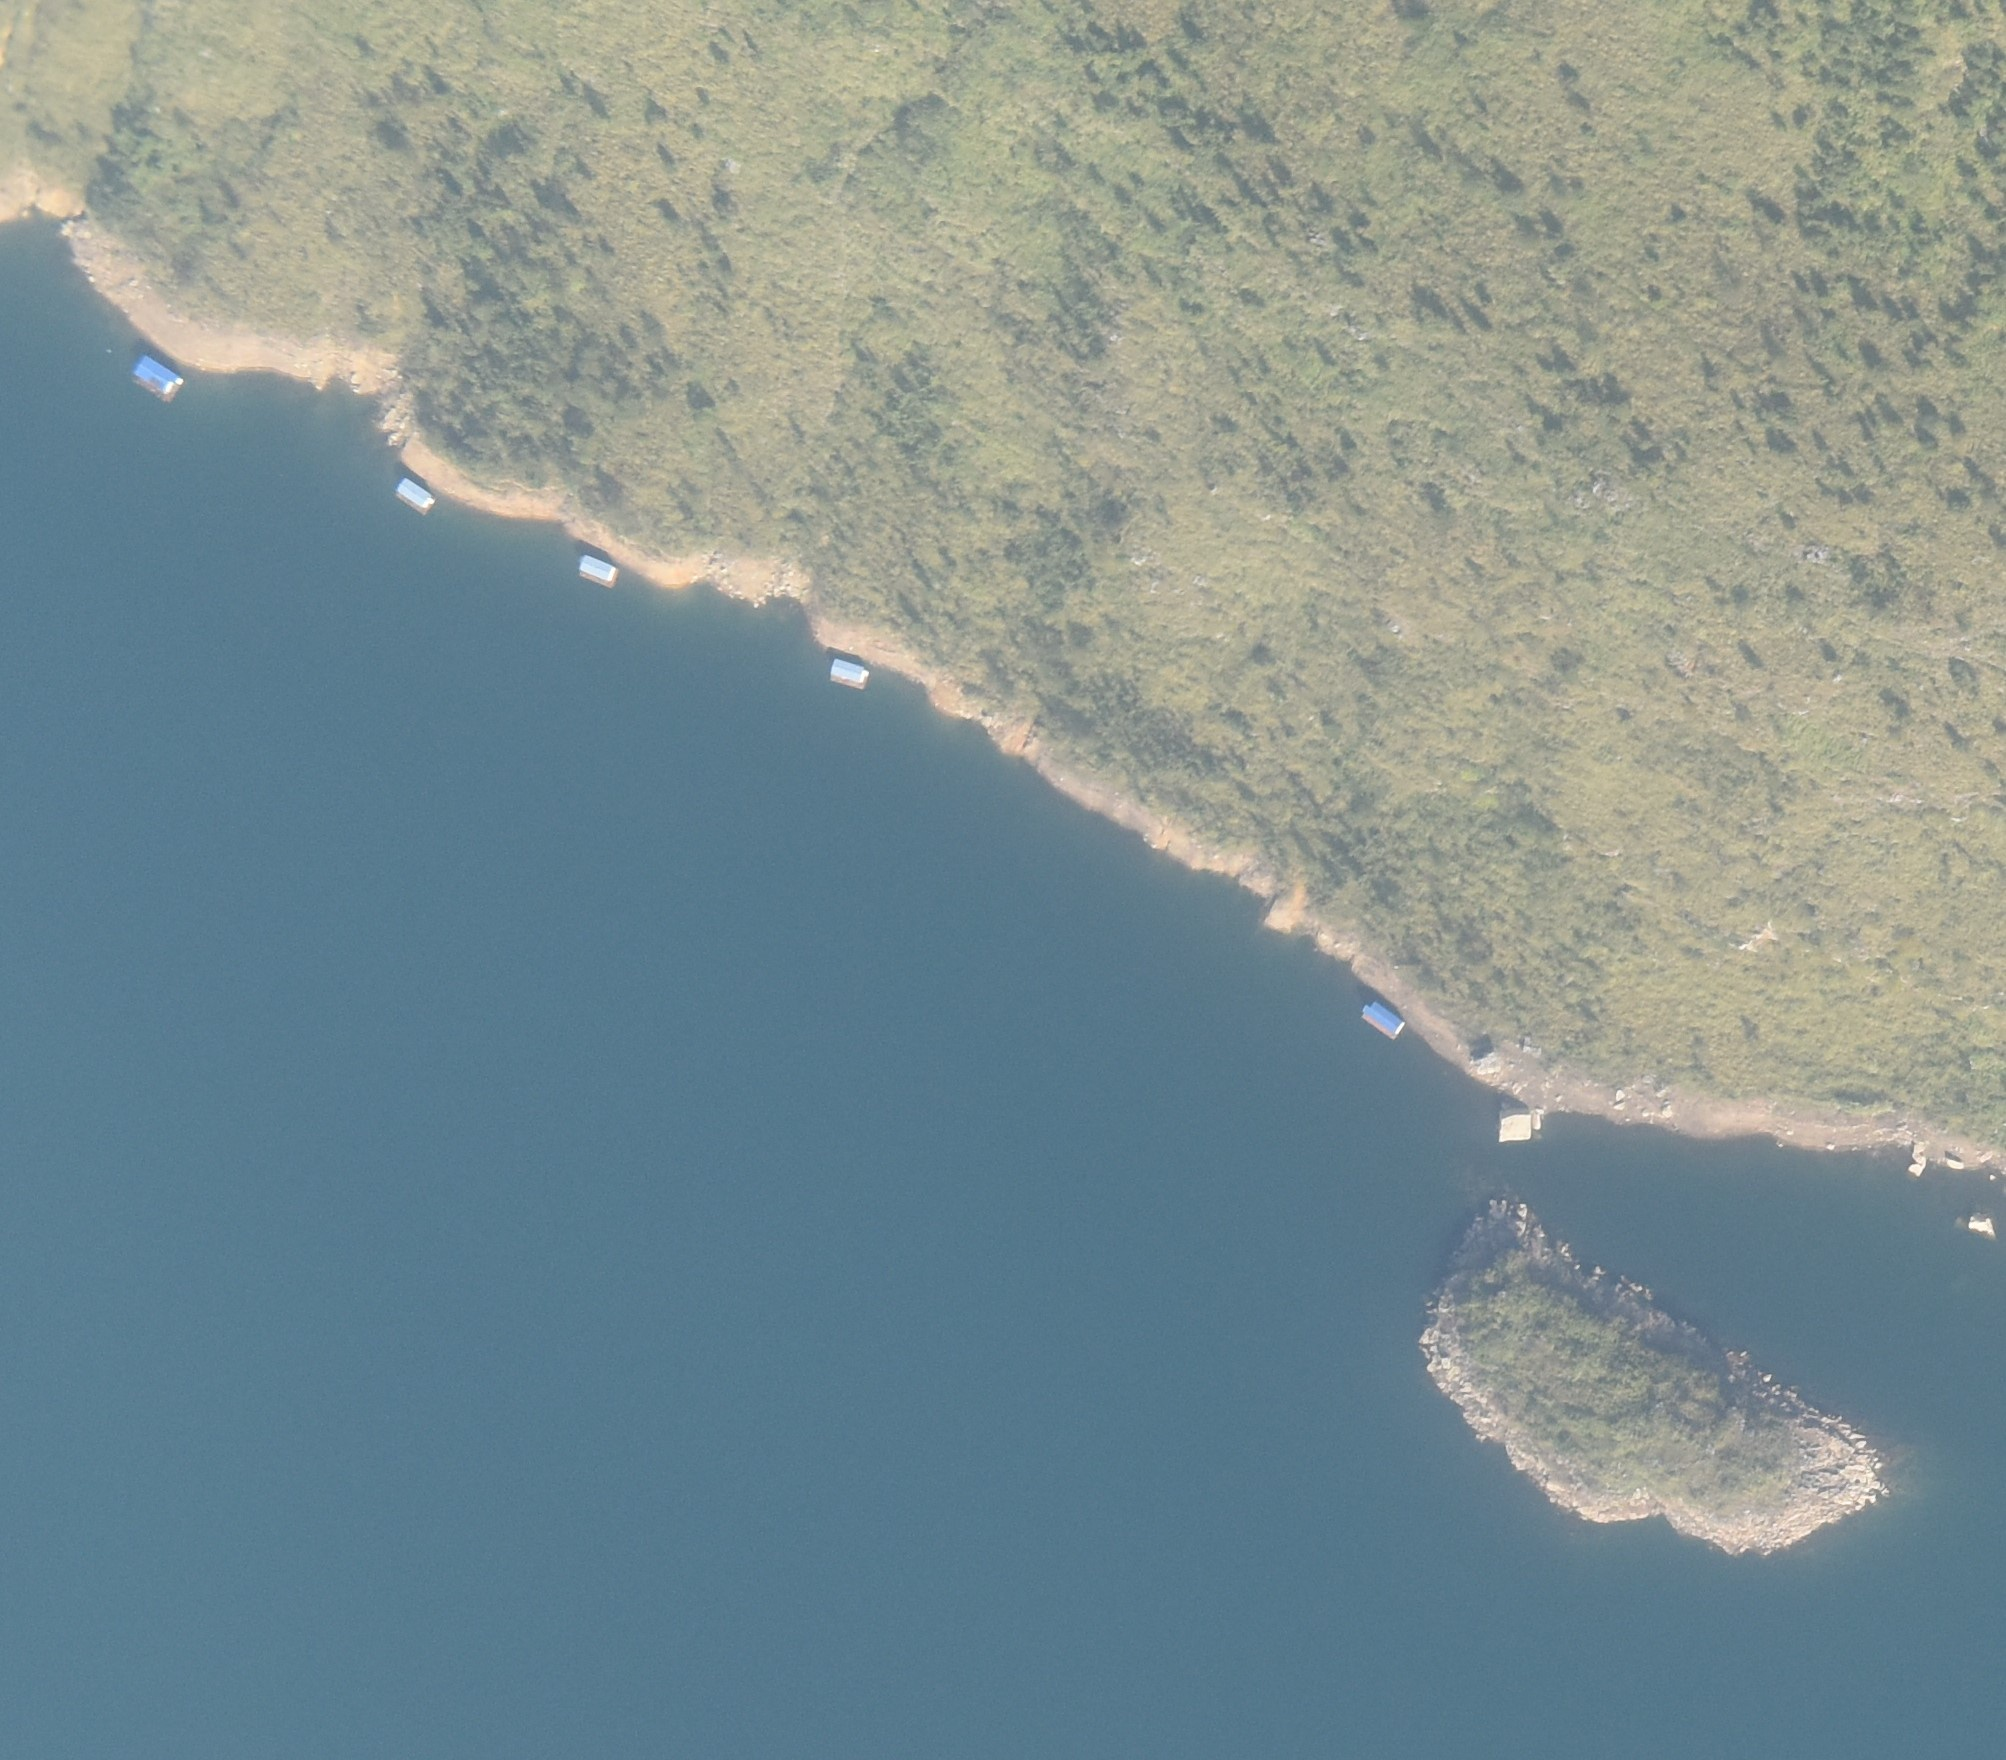prefabricated-house: (130, 358, 178, 397), (393, 476, 436, 516), (1361, 1002, 1407, 1039), (825, 657, 865, 692), (576, 548, 612, 586)
